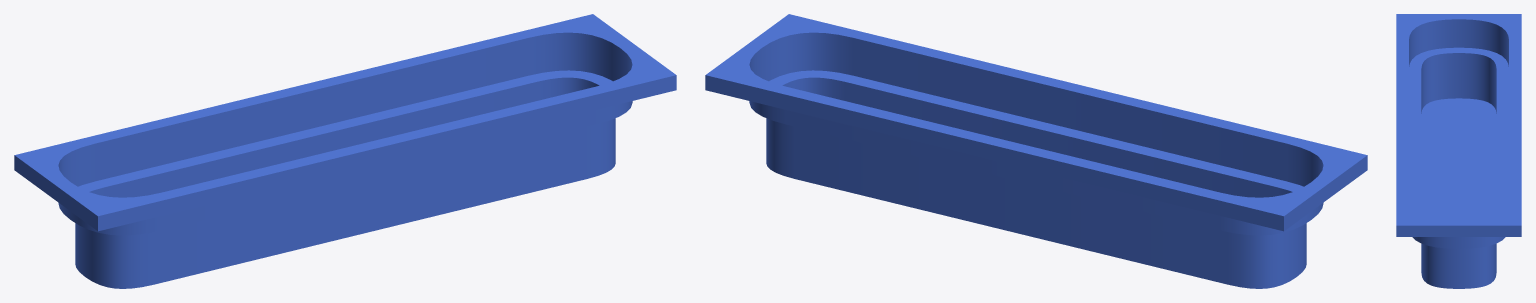
File: Ceiling_4x1m_C.FBX
The picture shows the model from 3 angles, left to right: view 1: azimuth 30°, elevation 25°; view 2: azimuth 150°, elevation 25°; view 3: azimuth 270°, elevation 25°; orthographic projection. The views are drawn at different scales.
Parts seen in each view (by area): view 1: Ceiling_4x1m_C; view 2: Ceiling_4x1m_C; view 3: Ceiling_4x1m_C.
Boxes of the visible parts, bbox=[...] form: Ceiling_4x1m_C: bbox=[14, 14, 676, 288]; Ceiling_4x1m_C: bbox=[705, 14, 1367, 288]; Ceiling_4x1m_C: bbox=[1396, 14, 1521, 288].
Size of the model in its own units: 400 by 65 by 100.
